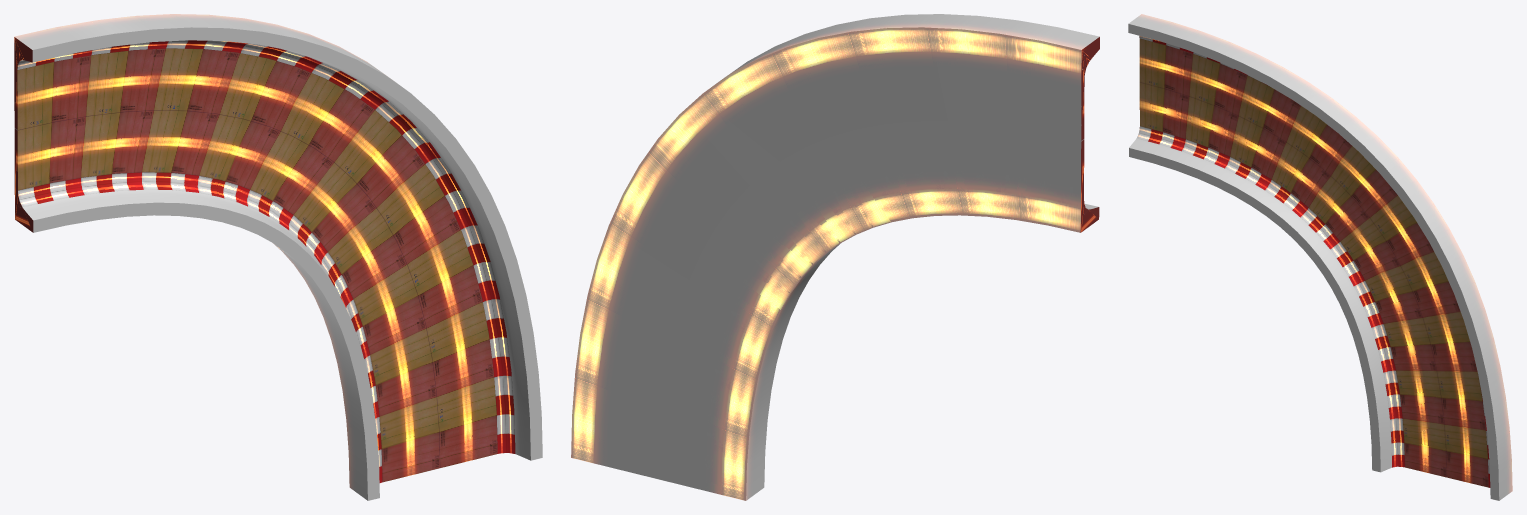
The model's file is SAMRTrack-32 (1).fbx.
The picture shows the model from 3 angles, left to right: view 1: azimuth 30°, elevation 25°; view 2: azimuth 150°, elevation 25°; view 3: azimuth 330°, elevation 25°; orthographic projection. The views are drawn at different scales.
Visible parts, largest first — view 1: SAMRTrack-32 (1); view 2: SAMRTrack-32 (1); view 3: SAMRTrack-32 (1).
Part boxes in pixels (box(x1,y1,x2,y2)): SAMRTrack-32 (1): box(14, 14, 542, 500); SAMRTrack-32 (1): box(571, 14, 1099, 500); SAMRTrack-32 (1): box(1128, 14, 1512, 500).
Bounding box in the file's own units: 8416 × 8395 × 527.
3 materials, 2 textured.
